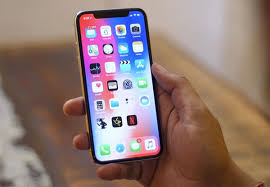iphone: (72, 5, 166, 164)
iphone10: (72, 6, 166, 165)
